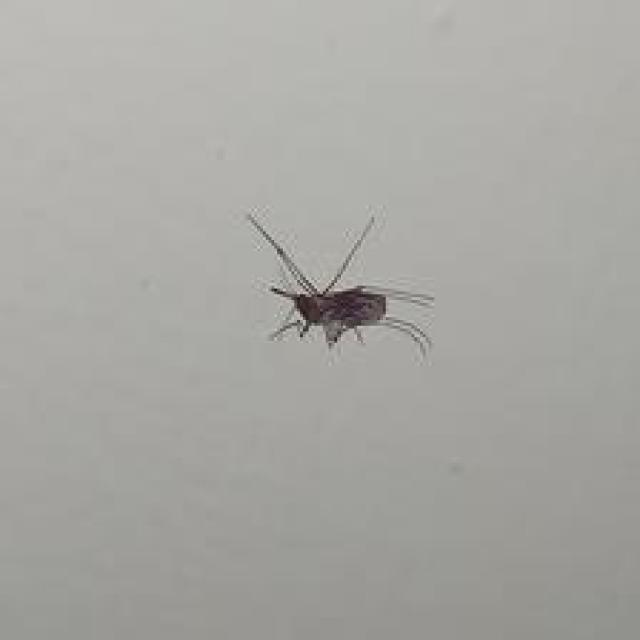Culex: (244, 210, 436, 361)
